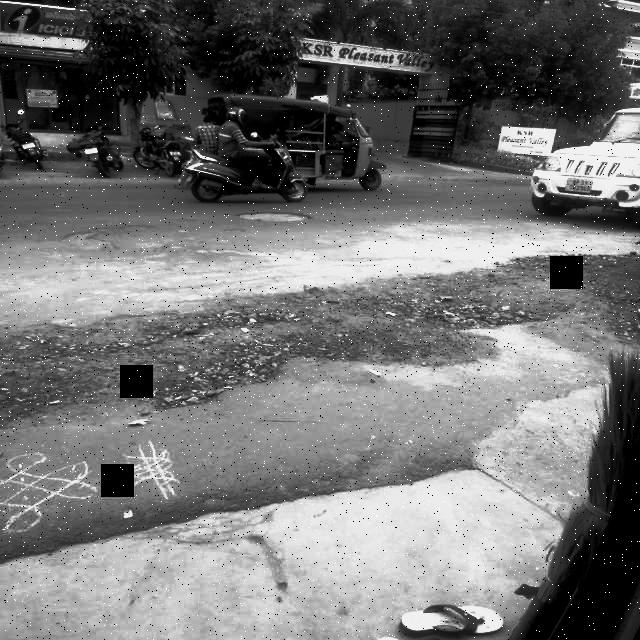Auto-Rickshaw: (193, 87, 389, 193)
